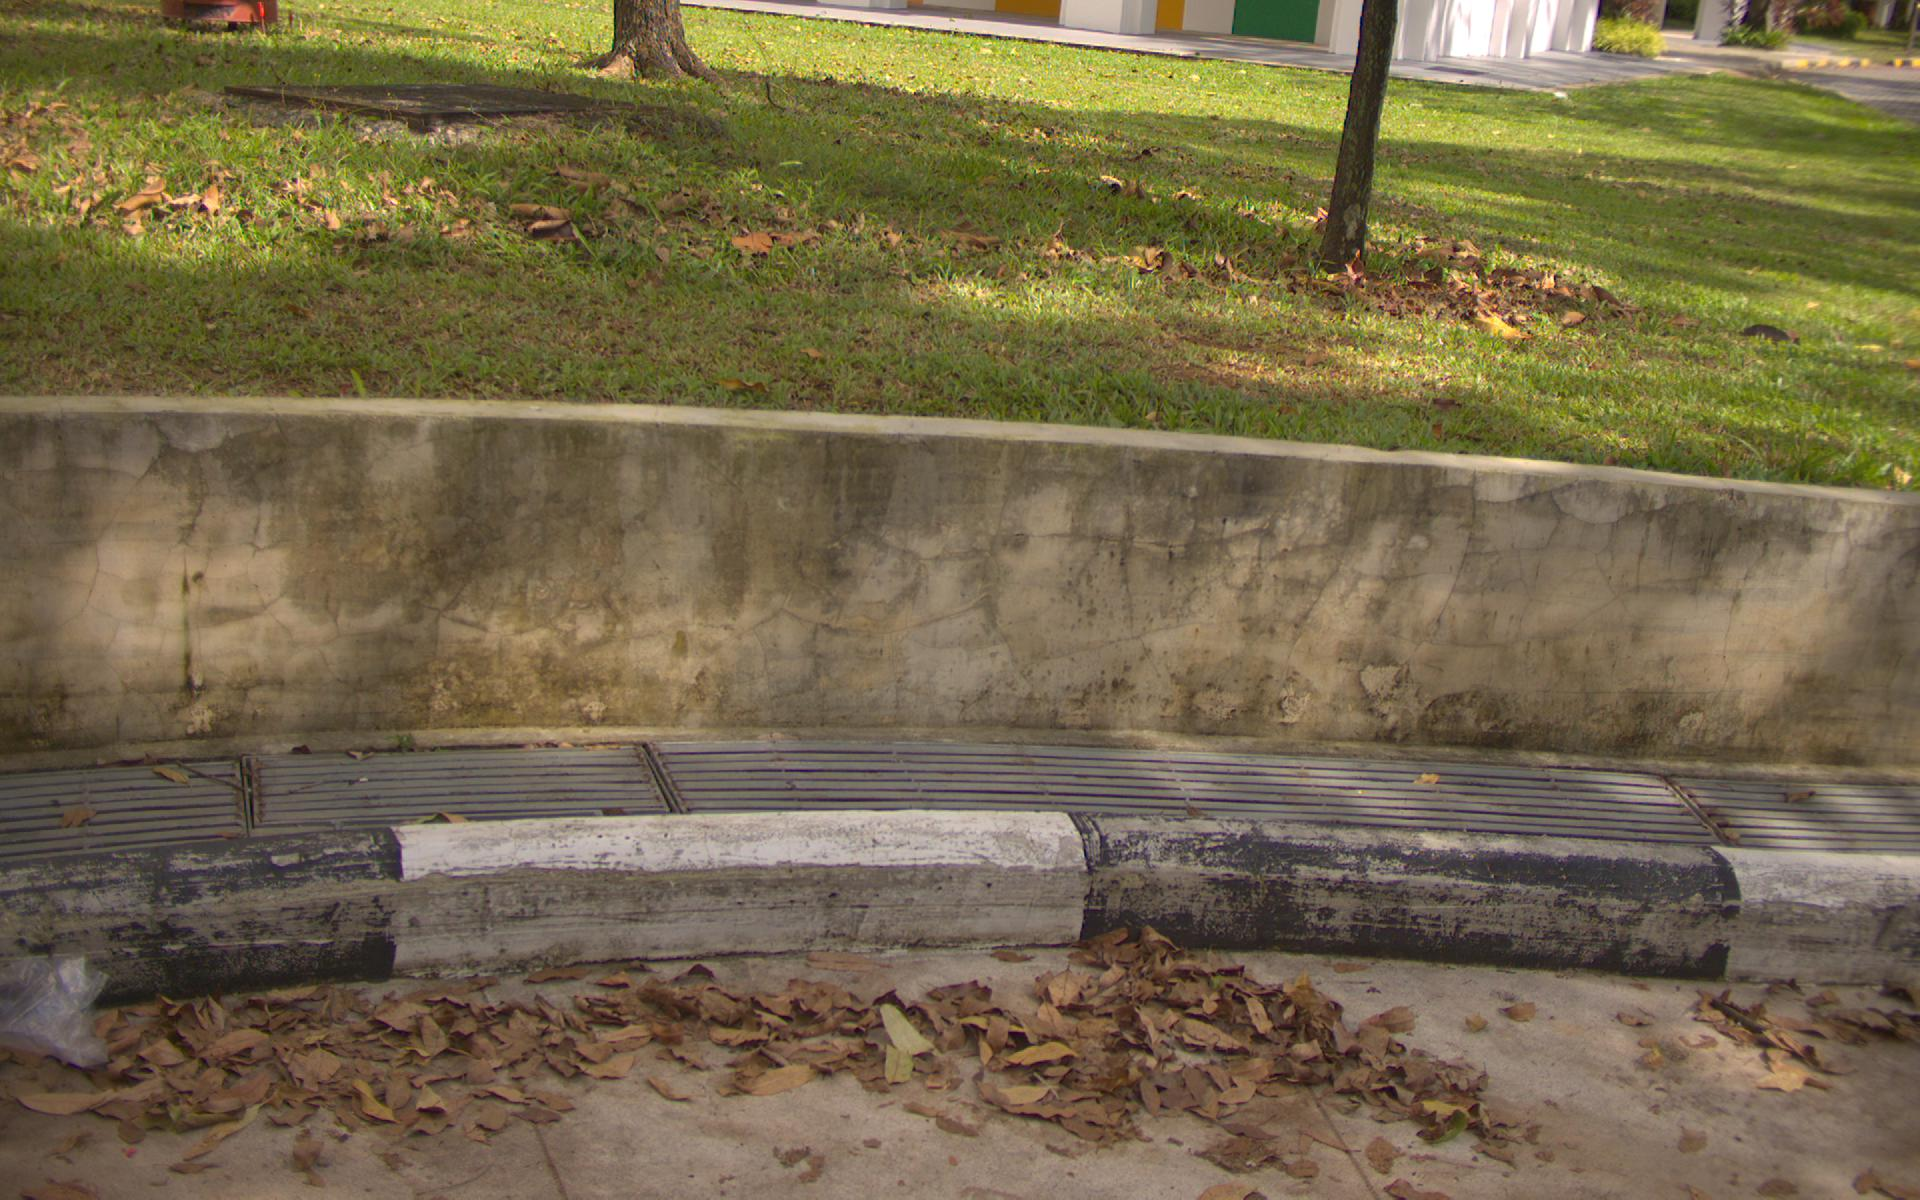curb_dic_low: (93, 727, 1920, 807)
road_curb_medium: (80, 995, 1920, 1176)
road_turf_low: (35, 93, 1920, 377)
